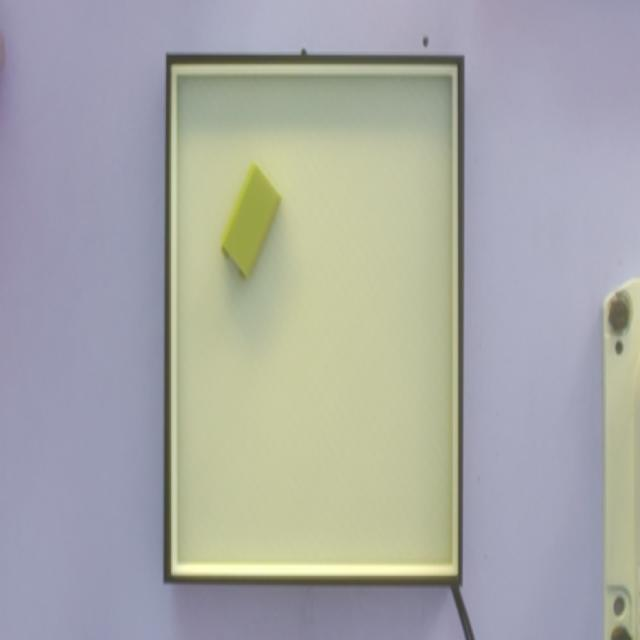bateria: (219, 162, 284, 281)
mesa: (163, 53, 464, 586)
